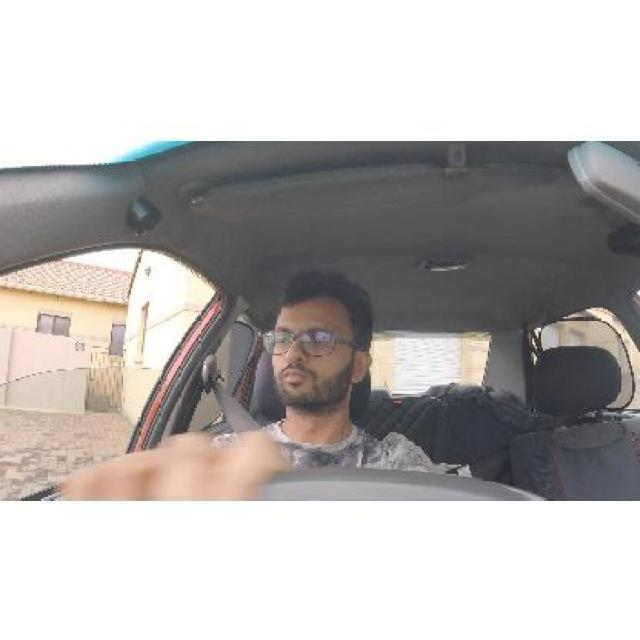person: (266, 276, 372, 401)
